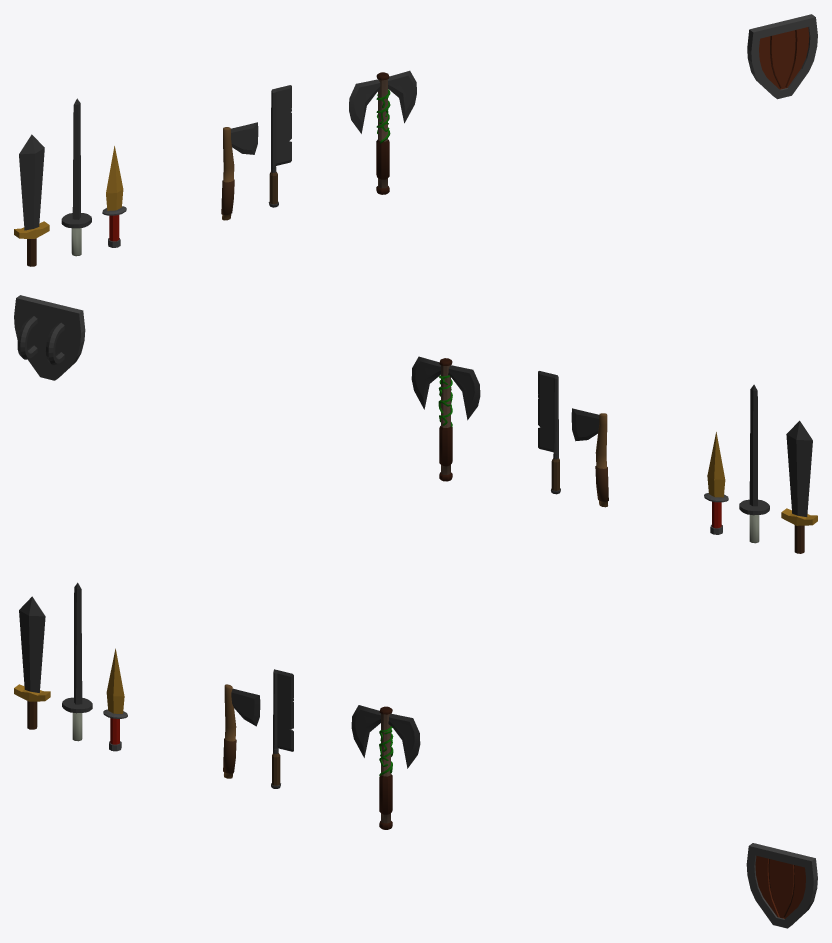
The model's file is armas.glb.
3 views of the same model, one above another, from view 1: azimuth 30°, elevation 25°; view 2: azimuth 150°, elevation 25°; view 3: azimuth 330°, elevation 25° (orthographic).
Parts seen in each view (by area): view 1: Plane.002, Spiral.001, Famiy Sword, Cylinder, Plane, Short Sword, Spartan Sword; view 2: Plane.002, Spiral.001, Famiy Sword, Cylinder, Plane, Short Sword, Spartan Sword; view 3: Plane.002, Spiral.001, Famiy Sword, Cylinder, Plane, Short Sword, Spartan Sword.
Boxes of the visible parts, x1,y1,x2,y2 form: Plane.002: [747, 14, 817, 99]; Spiral.001: [349, 70, 416, 194]; Famiy Sword: [14, 134, 49, 266]; Cylinder: [268, 85, 291, 207]; Plane: [221, 122, 258, 220]; Short Sword: [61, 98, 91, 256]; Spartan Sword: [102, 146, 126, 247]; Plane.002: [14, 295, 85, 380]; Spiral.001: [411, 356, 480, 481]; Famiy Sword: [781, 420, 817, 553]; Cylinder: [538, 371, 560, 494]; Plane: [571, 408, 608, 507]; Short Sword: [739, 384, 769, 543]; Spartan Sword: [704, 432, 728, 534]; Plane.002: [746, 843, 817, 928]; Spiral.001: [351, 705, 420, 829]; Famiy Sword: [14, 596, 50, 729]; Cylinder: [271, 669, 293, 788]; Plane: [223, 684, 260, 778]; Short Sword: [62, 582, 92, 741]; Spartan Sword: [103, 648, 127, 751].
Bounding box in the file's own units: 44.65 × 9.12 × 2.16.
